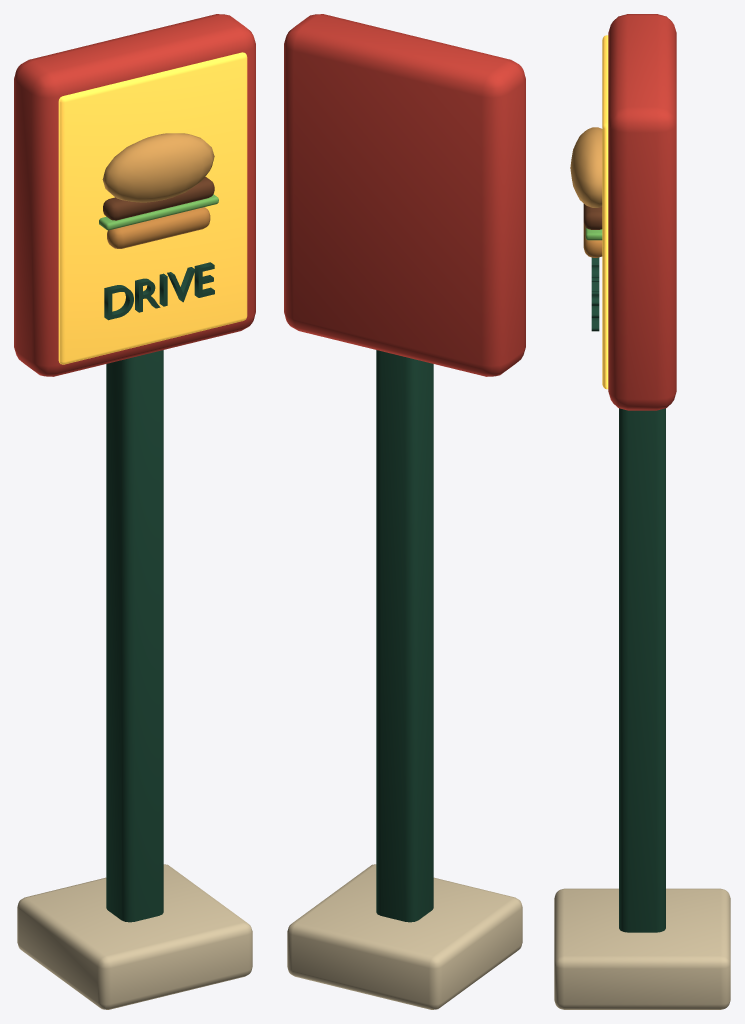
The model's file is prop_pylon.glb.
The picture shows the model from 3 angles, left to right: view 1: azimuth 30°, elevation 25°; view 2: azimuth 150°, elevation 25°; view 3: azimuth 270°, elevation 25°; orthographic projection.
Visible parts, largest first — view 1: pylon; view 2: pylon; view 3: pylon.
Boxes of the visible parts, x1,y1,x2,y2 form: pylon: [14, 14, 255, 1009]; pylon: [284, 14, 525, 1009]; pylon: [554, 14, 730, 1009].
Size of the model in its own units: 1.3 by 5.15 by 0.8996.
Materials: 2 (2 with a texture image).
